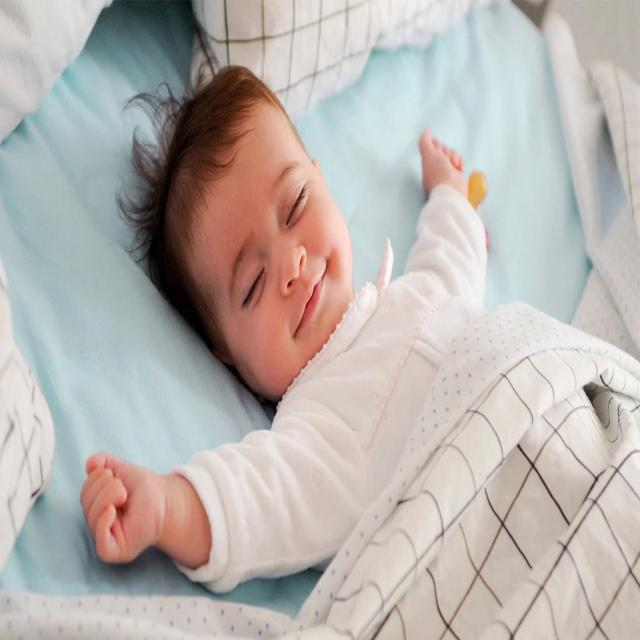child: (81, 62, 617, 598)
